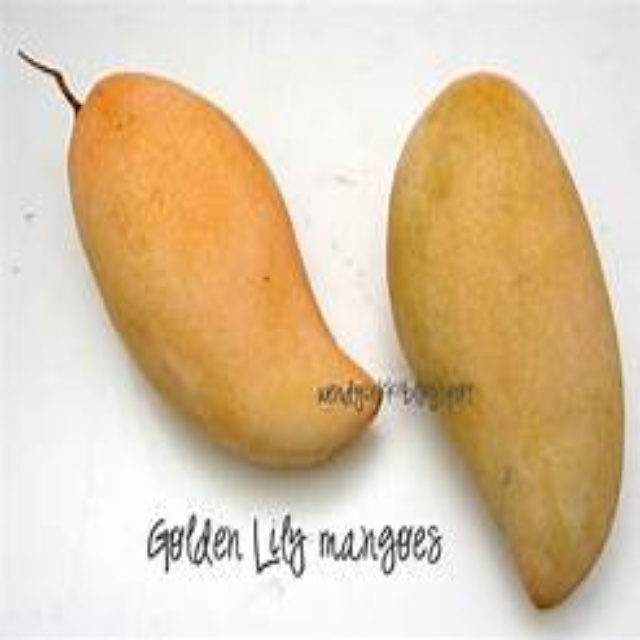mango: (70, 74, 383, 466), (391, 71, 614, 606)
